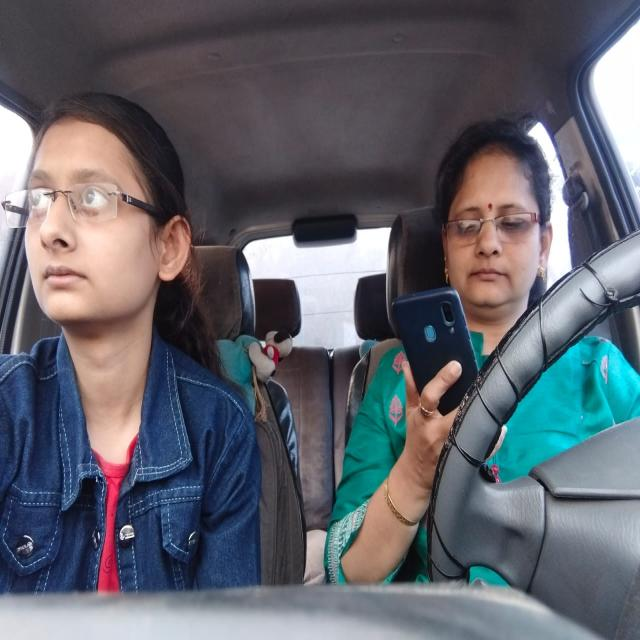mobile: (382, 289, 496, 436)
person: (0, 74, 206, 340), (428, 122, 557, 330)
